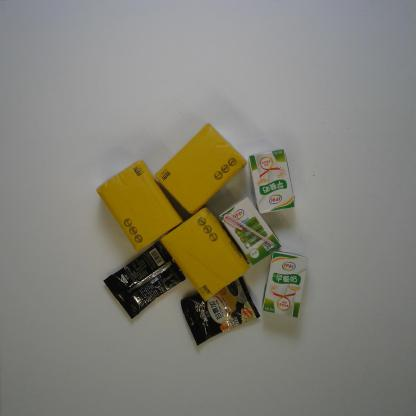Instant Drink: (102, 240, 186, 321), (180, 275, 261, 347)
Milk: (218, 196, 282, 266), (260, 249, 309, 320), (247, 148, 296, 214)
Tissue: (159, 204, 251, 303), (154, 122, 249, 216), (95, 158, 183, 254)
